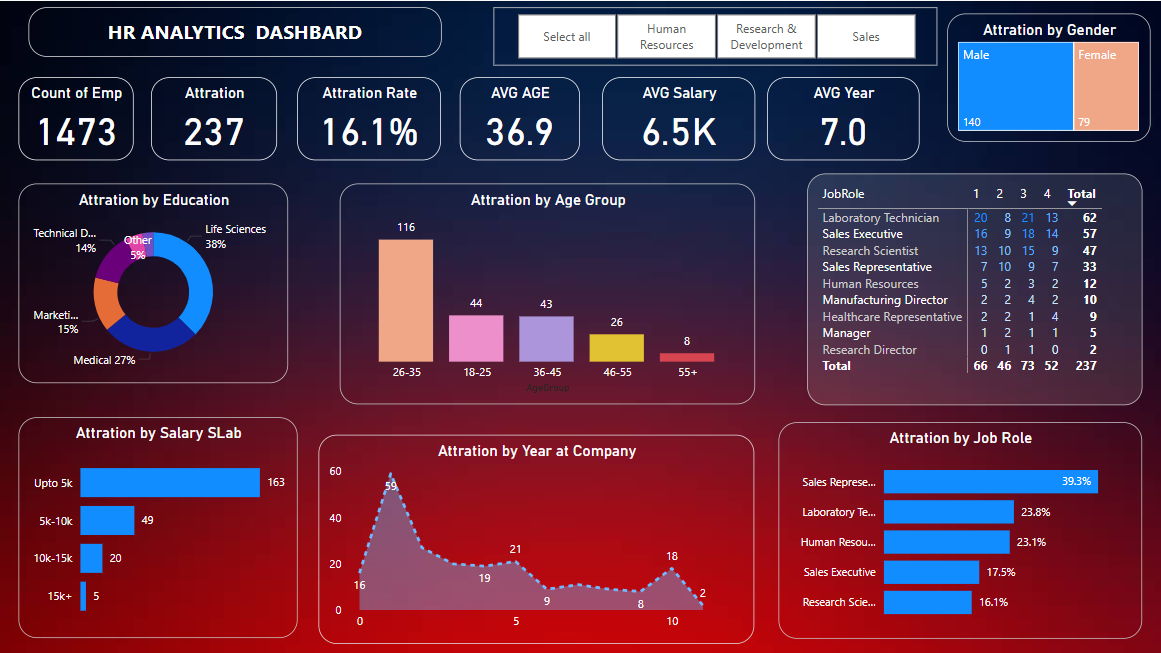

Layout of this report page (visuals, bound fields, positions):
{"tool":"powerbi","page":{"name":"Page 1","canvas":[1280,720],"ordinal":0},"visuals":[{"type":"card","title":"Count of Emp","fields":{"Values":["Sum(HR_Analytics (1).EmployeeCount)"]},"box":[24.8,83.4,126.5,91.3],"z":0},{"type":"card","title":"Attration","fields":{"Values":["Sum(HR_Analytics (1).at2)"]},"box":[169.5,83.4,138.2,91.3],"z":1000},{"type":"card","title":"Attration Rate","fields":{"Values":["HR_Analytics (1).atrate"]},"box":[331.1,83.4,157.8,91.3],"z":2000},{"type":"card","title":"AVG AGE","fields":{"Values":["Avg(HR_Analytics (1).Age)"]},"box":[508.5,83.4,131.7,91.3],"z":3000},{"type":"card","title":"AVG Salary","fields":{"Values":["Avg(HR_Analytics (1).MonthlyIncome)"]},"box":[664.9,83.4,168.2,91.3],"z":4000},{"type":"card","title":"AVG Year","fields":{"Values":["Avg(HR_Analytics (1).YearsAtCompany)"]},"box":[846.1,83.4,166.9,91.3],"z":5000},{"type":"donutChart","title":"Attration by Education","fields":{"Category":["HR_Analytics (1).EducationField"],"Y":["Sum(HR_Analytics (1).at2)"]},"box":[24.8,200.8,295.9,219],"z":6000},{"type":"columnChart","title":"Attration by Age Group","fields":{"Category":["HR_Analytics (1).AgeGroup"],"Y":["Sum(HR_Analytics (1).at2)"]},"box":[376.8,200.8,456.3,242.5],"z":7000},{"type":"pivotTable","title":"Attration by Education","fields":{"Rows":["HR_Analytics (1).JobRole"],"Values":["Sum(HR_Analytics (1).at2)"],"Columns":["HR_Analytics (1).JobSatisfaction"]},"box":[890,189,367.7,254.2],"z":8000},{"type":"barChart","title":"Attration by Job Role","fields":{"Category":["HR_Analytics (1).JobRole"],"Y":["HR_Analytics (1).atrate"]},"box":[859.2,462.8,398.9,237.3],"z":9000},{"type":"barChart","title":"Attration by Salary SLab","fields":{"Category":["HR_Analytics (1).SalarySlab"],"Y":["Sum(HR_Analytics (1).at2)"]},"box":[24.8,457.6,306.4,242.5],"z":10000},{"type":"areaChart","title":"Attration by Year at Company","fields":{"Category":["HR_Analytics (1).YearsAtCompany"],"Y":["Sum(HR_Analytics (1).at2)"]},"box":[354.6,475.9,478.5,229.5],"z":11000},{"type":"treemap","title":"Attration by Gender","fields":{"Group":["HR_Analytics (1).Gender"],"Values":["Sum(HR_Analytics (1).at2)"]},"box":[1044.3,13,222.9,140.8],"z":12000},{"type":"slicer","fields":{"Values":["HR_Analytics (1).Department"]},"box":[546.3,6.5,487.6,63.9],"z":13000},{"type":"textbox","box":[35.2,6.5,453.7,54.8],"z":14000}]}

Visuals, with their boxes in screenshot pixels (x1, y1, x2, y2), scaled from the page's 1280x720 canvas onto the 1161x653 screenshot:
"Count of Emp" card: region(22, 76, 137, 158)
"Attration" card: region(154, 76, 279, 158)
"Attration Rate" card: region(300, 76, 443, 158)
"AVG AGE" card: region(461, 76, 581, 158)
"AVG Salary" card: region(603, 76, 756, 158)
"AVG Year" card: region(767, 76, 919, 158)
"Attration by Education" donutChart: region(22, 182, 291, 381)
"Attration by Age Group" columnChart: region(342, 182, 756, 402)
"Attration by Education" pivotTable: region(807, 171, 1141, 402)
"Attration by Job Role" barChart: region(779, 420, 1141, 635)
"Attration by Salary SLab" barChart: region(22, 415, 300, 635)
"Attration by Year at Company" areaChart: region(322, 432, 756, 640)
"Attration by Gender" treemap: region(947, 12, 1149, 139)
slicer - HR_Analytics (1).Department: region(496, 6, 938, 64)
textbox: region(32, 6, 443, 56)
